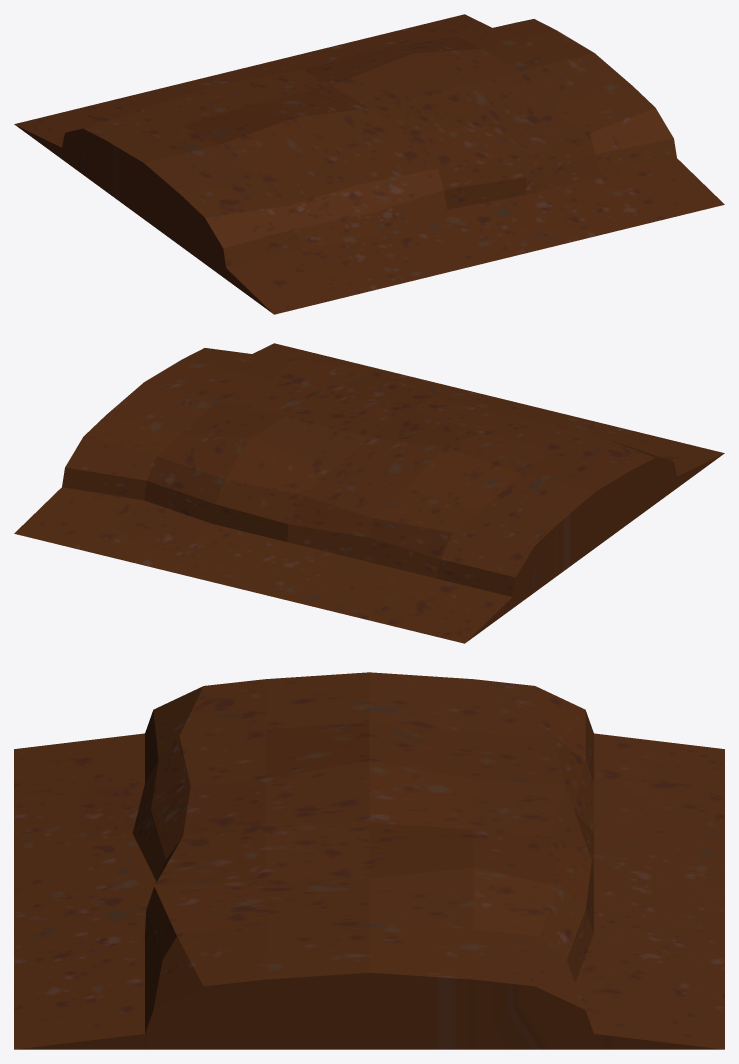
Rendered from Tilable Soil.fbx.
3 renders of one model, top to bottom at view 1: azimuth 30°, elevation 25°; view 2: azimuth 150°, elevation 25°; view 3: azimuth 270°, elevation 25°, orthographic. The views are drawn at different scales.
Parts seen in each view (by area): view 1: Tilable Soil; view 2: Tilable Soil; view 3: Tilable Soil.
Boxes of the visible parts, bbox=[...] form: Tilable Soil: bbox=[14, 14, 724, 314]; Tilable Soil: bbox=[14, 343, 724, 643]; Tilable Soil: bbox=[14, 672, 724, 1049].
Bounding box in the file's own units: 200 × 27.51 × 200.
1 material, 1 textured.
